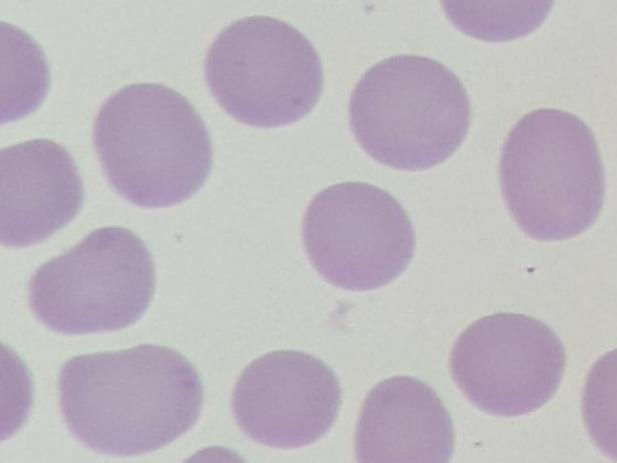Uninfected: (59, 344, 201, 454), (346, 52, 473, 171), (199, 15, 325, 127), (498, 108, 604, 241), (94, 82, 208, 205), (24, 228, 151, 332), (302, 180, 415, 291), (448, 312, 565, 418), (230, 348, 339, 451), (351, 375, 450, 463), (0, 142, 84, 245)
